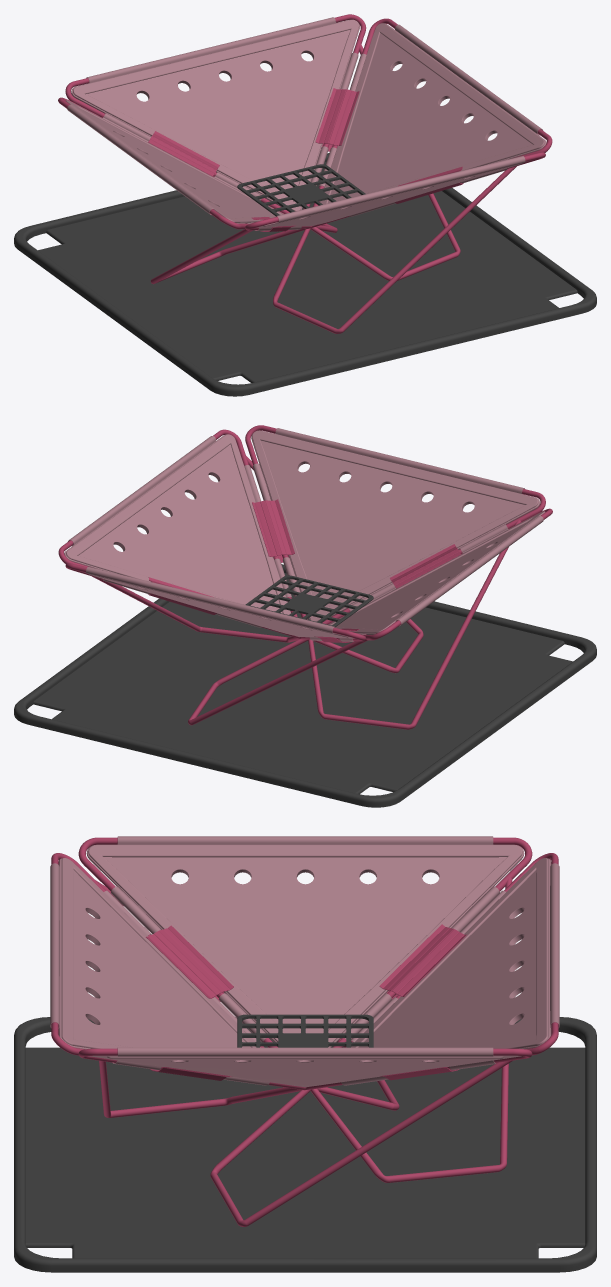
File: brazier_01.fbx
3 renders of one model, top to bottom at view 1: azimuth 30°, elevation 25°; view 2: azimuth 150°, elevation 25°; view 3: azimuth 270°, elevation 25°, orthographic. The views are drawn at different scales.
Parts seen in each view (by area): view 1: brazier_01; view 2: brazier_01; view 3: brazier_01.
Part boxes in pixels (box(x1,y1,x2,y2)): brazier_01: box(14, 14, 596, 396); brazier_01: box(14, 425, 596, 807); brazier_01: box(14, 836, 596, 1272).
Bounding box in the file's own units: 31.06 × 12.15 × 31.06.
